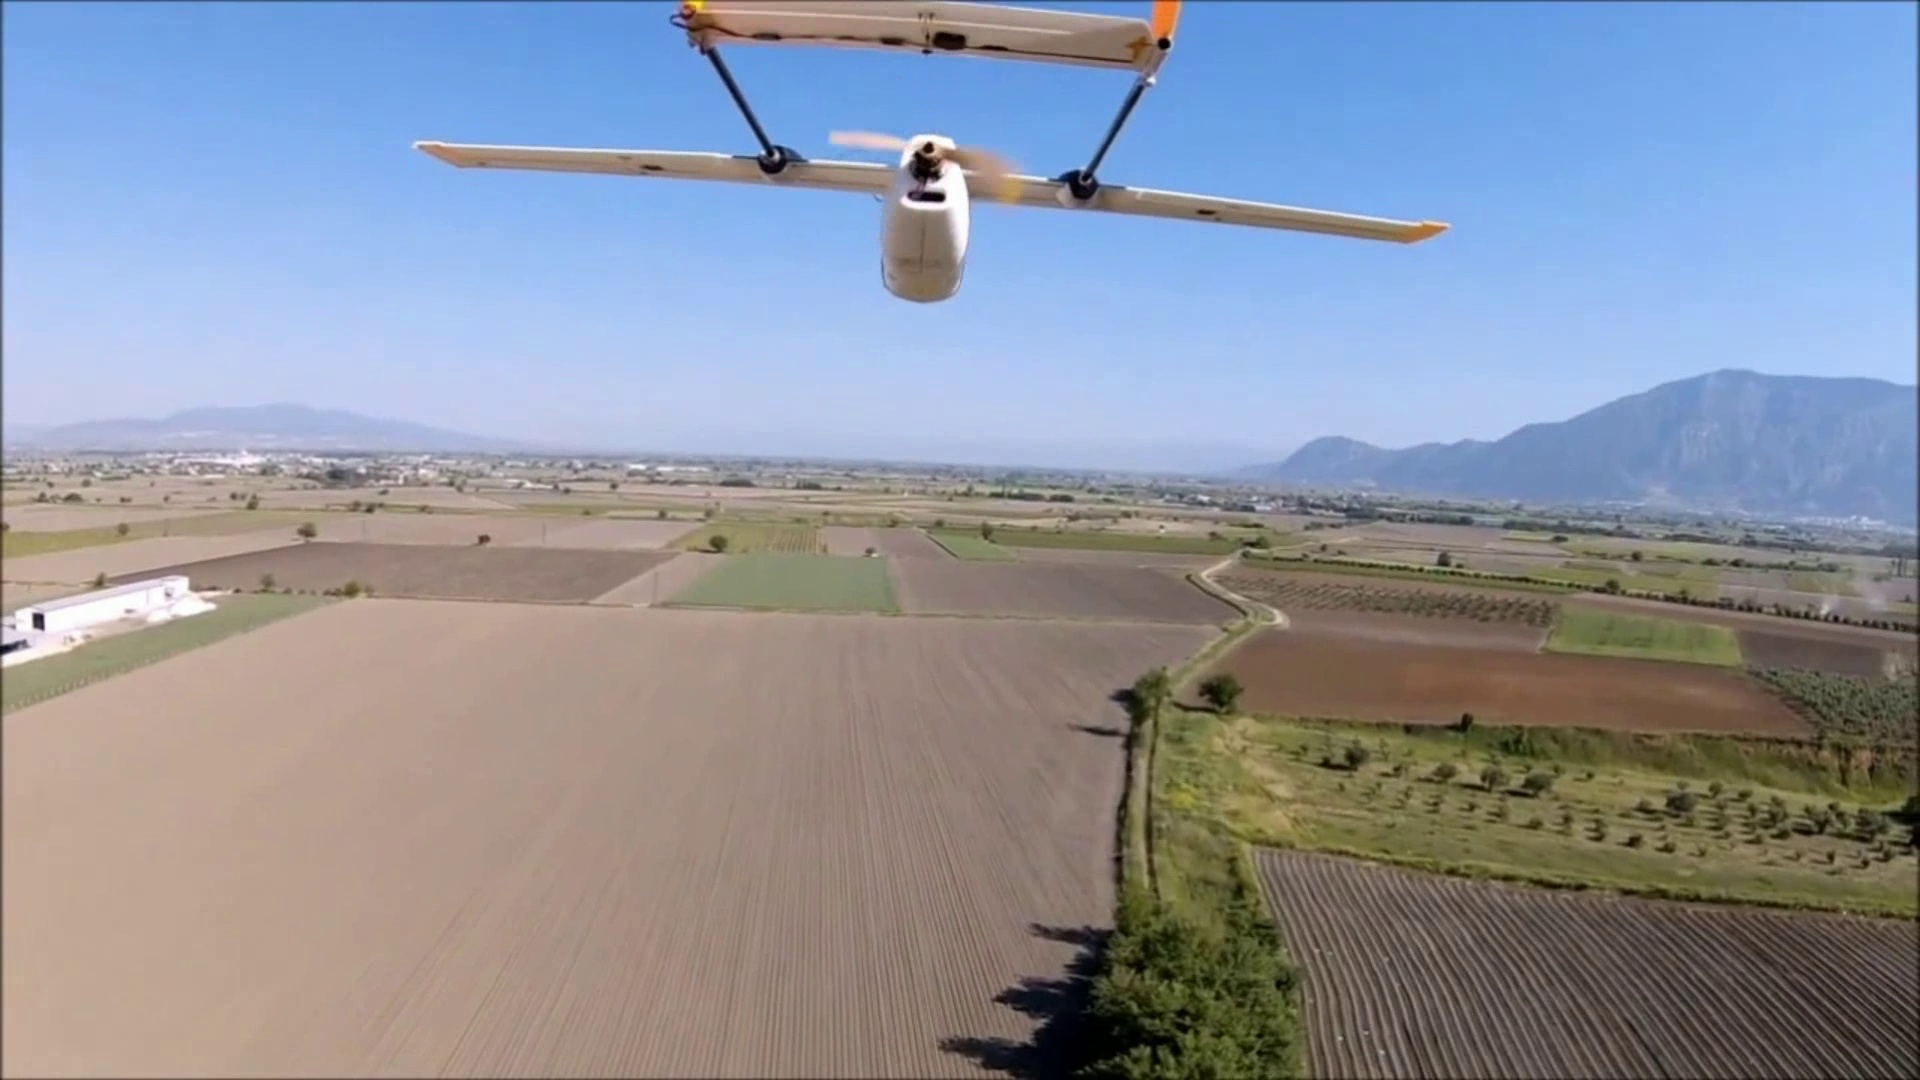airplane: (415, 4, 1449, 302)
